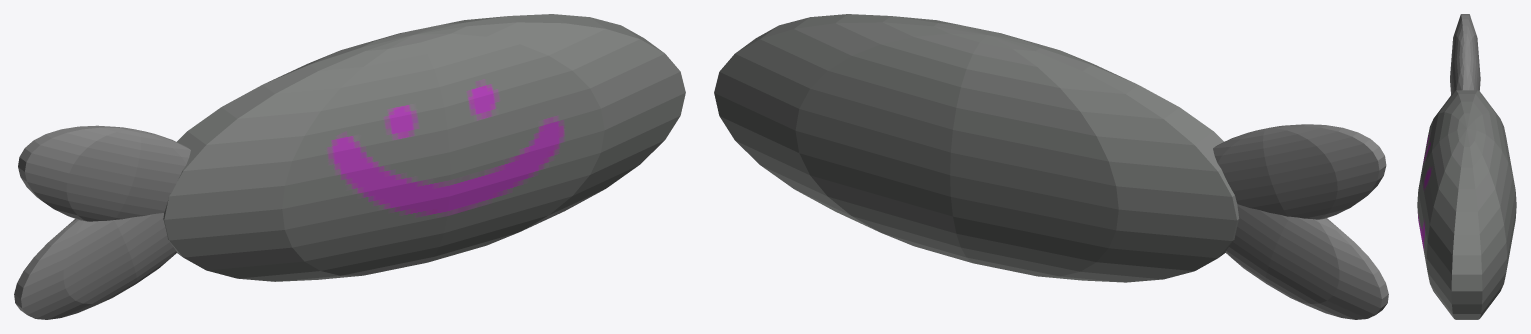
The model's file is fish.fbx.
The picture shows the model from 3 angles, left to right: view 1: azimuth 30°, elevation 25°; view 2: azimuth 150°, elevation 25°; view 3: azimuth 270°, elevation 25°; orthographic projection. The views are drawn at different scales.
Visible parts, largest first — view 1: node_id6, node_id8, node_id10; view 2: node_id6, node_id8, node_id10; view 3: node_id6, node_id8.
Part boxes in pixels (box(x1,y1,x2,y2)): node_id6: box(163, 14, 685, 281); node_id8: box(18, 125, 190, 221); node_id10: box(14, 213, 176, 319); node_id6: box(714, 14, 1239, 282); node_id8: box(1213, 124, 1386, 219); node_id10: box(1225, 204, 1388, 319); node_id6: box(1417, 90, 1516, 319); node_id8: box(1450, 14, 1480, 94).
Size of the model in its own units: 0.1213 by 0.0398 by 0.0235.
Materials: 3 (1 with a texture image).
